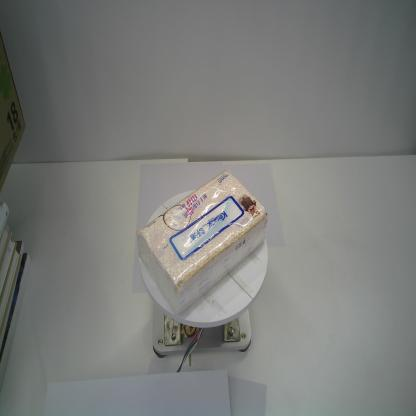Tissue: (135, 168, 268, 316)
